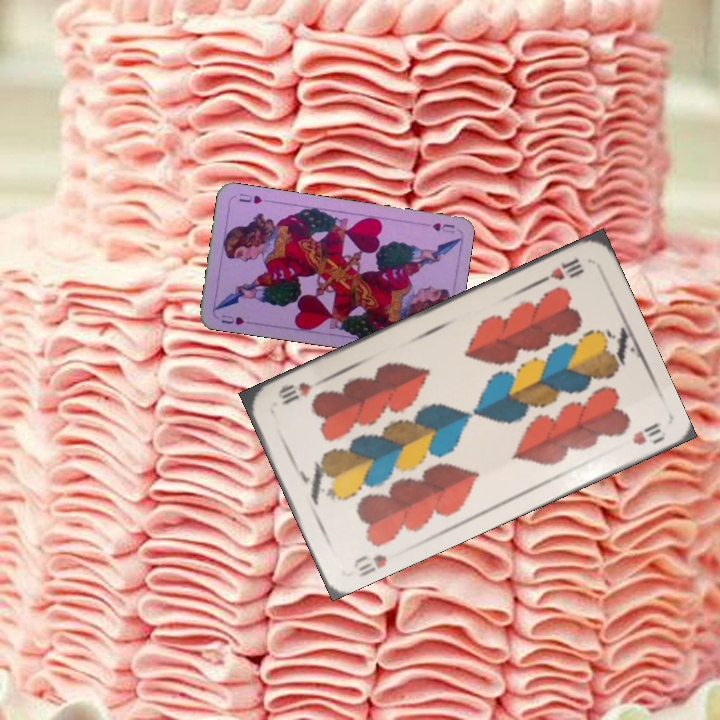H10: (534, 254, 587, 287), (349, 550, 390, 579)
HU: (428, 218, 457, 236), (217, 310, 247, 327)
